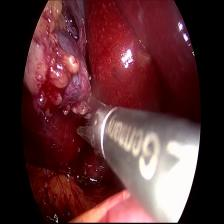Scissors: (75, 90, 113, 164)
